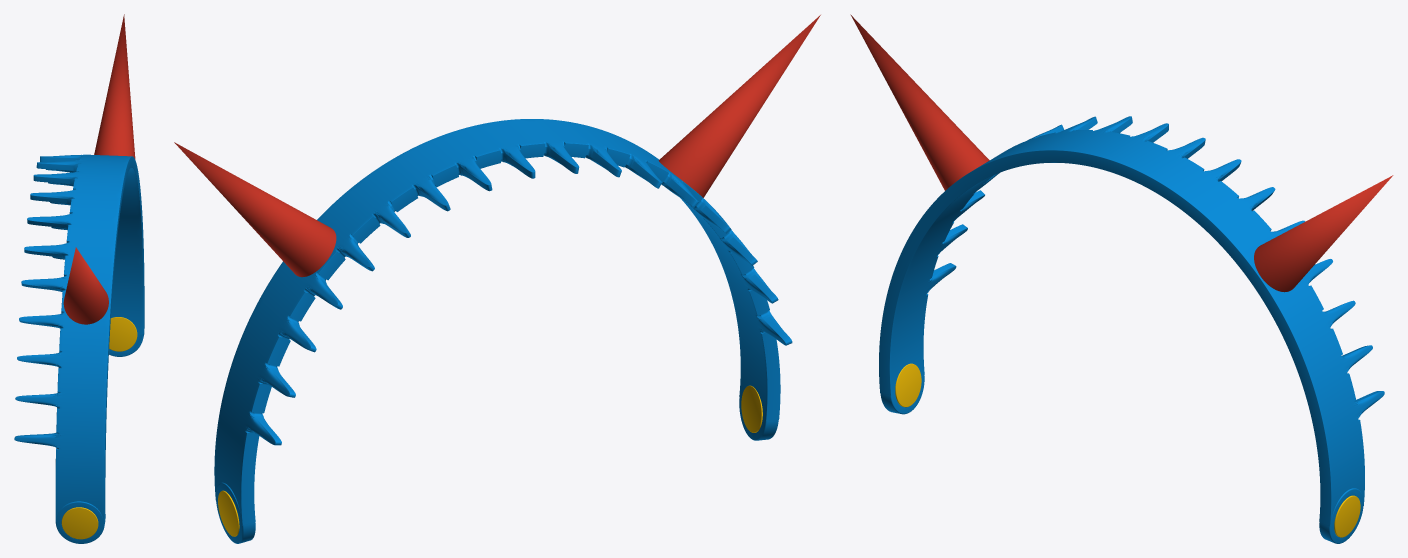
The model's file is tall-spike-headband.glb.
3 renders of one model, left to right at view 1: azimuth 30°, elevation 25°; view 2: azimuth 150°, elevation 25°; view 3: azimuth 270°, elevation 25°, orthographic. The views are drawn at different scales.
Visible parts, largest first — view 1: tall-spike-headband-part-001, tall-spike-headband-part-003, tall-spike-headband-part-002; view 2: tall-spike-headband-part-001, tall-spike-headband-part-002, tall-spike-headband-part-003; view 3: tall-spike-headband-part-001, tall-spike-headband-part-002, tall-spike-headband-part-003.
Boxes of the visible parts, <box> form: tall-spike-headband-part-001: <box>14,154,144,543</box>; tall-spike-headband-part-003: <box>94,14,135,159</box>; tall-spike-headband-part-002: <box>63,247,108,324</box>; tall-spike-headband-part-001: <box>214,119,792,543</box>; tall-spike-headband-part-002: <box>658,15,820,197</box>; tall-spike-headband-part-003: <box>174,142,336,277</box>; tall-spike-headband-part-001: <box>879,116,1384,543</box>; tall-spike-headband-part-002: <box>850,14,989,190</box>; tall-spike-headband-part-003: <box>1254,175,1393,292</box>.
Bounding box in the file's own units: 2.25 × 2.33 × 3.
